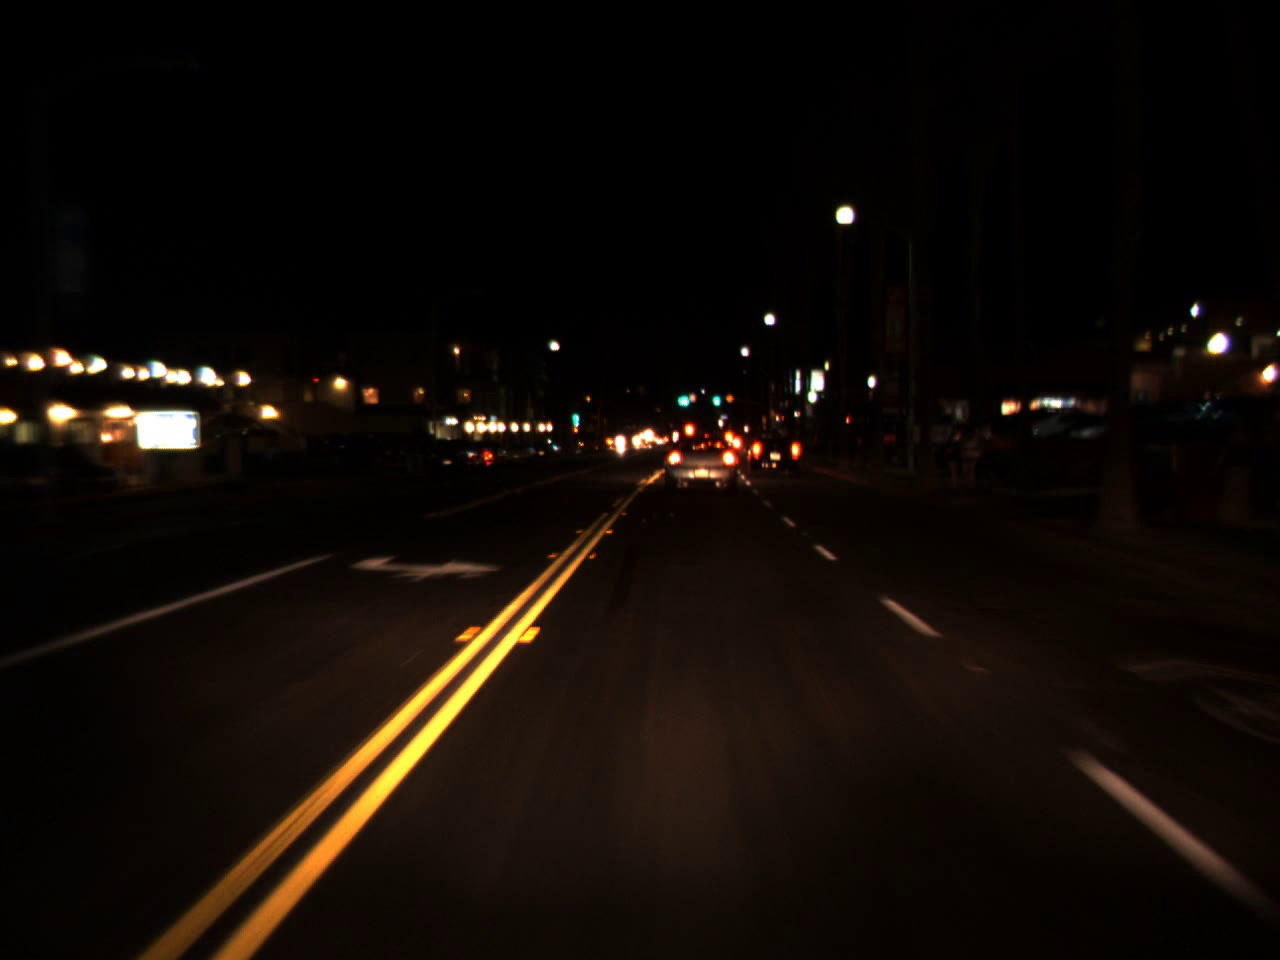go: (672, 383, 691, 410), (711, 385, 721, 409), (570, 401, 579, 428)
